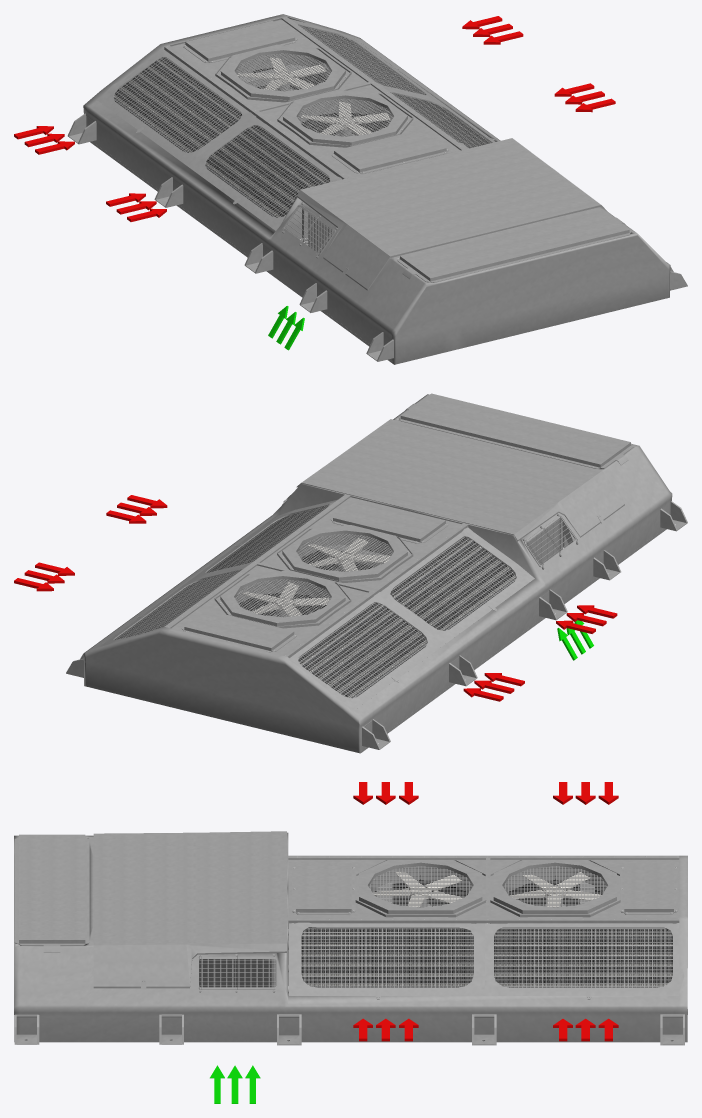
The model's file is HVAC.fbx.
The picture shows the model from 3 angles, top to bottom: view 1: azimuth 30°, elevation 25°; view 2: azimuth 150°, elevation 25°; view 3: azimuth 270°, elevation 25°; orthographic projection. The views are drawn at different scales.
Visible parts, largest first — view 1: HVAC_Finalized:HVAC_Finalized:polySurface1631, HVAC_Finalized:HVAC_Finalized:pCube196, HVAC_Finalized:HVAC_Finalized:pCube207, HVAC_Finalized:HVAC_Finalized:pCube207.001, HVAC_Finalized:HVAC_Finalized:pCube31, HVAC_Finalized:HVAC_Finalized:pCube208, HVAC_Finalized:HVAC_Finalized:pCube210, HVAC_Finalized:HVAC_Finalized:polySurface1743.001, HVAC_Finalized:HVAC_Finalized:polySurface1621, HVAC_Finalized:HVAC_Finalized:pCube37, HVAC_Finalized:HVAC_Finalized:polySurface1642, HVAC_Finalized:HVAC_Finalized:polySurface1743 (+13 smaller); view 2: HVAC_Finalized:HVAC_Finalized:polySurface1631, HVAC_Finalized:HVAC_Finalized:pCube196, HVAC_Finalized:HVAC_Finalized:pCube207, HVAC_Finalized:HVAC_Finalized:pCube207.001, HVAC_Finalized:HVAC_Finalized:pCube31, HVAC_Finalized:HVAC_Finalized:pCube210, HVAC_Finalized:HVAC_Finalized:pCube208, HVAC_Finalized:HVAC_Finalized:polySurface1743.001, HVAC_Finalized:HVAC_Finalized:polySurface1743, HVAC_Finalized:HVAC_Finalized:polySurface1621, HVAC_Finalized:HVAC_Finalized:polySurface1642, HVAC_Finalized:HVAC_Finalized:pCube37 (+12 smaller); view 3: HVAC_Finalized:HVAC_Finalized:polySurface1631, HVAC_Finalized:HVAC_Finalized:pCube196, HVAC_Finalized:HVAC_Finalized:polySurface1743.001, HVAC_Finalized:HVAC_Finalized:polySurface1743, HVAC_Finalized:HVAC_Finalized:pCube31, HVAC_Finalized:HVAC_Finalized:pCube210, HVAC_Finalized:HVAC_Finalized:pCube208, HVAC_Finalized:HVAC_Finalized:polySurface1642, HVAC_Finalized:HVAC_Finalized:pCube37, HVAC_Finalized:HVAC_Finalized:pCube36, HVAC_Finalized:HVAC_Finalized:polySurface1622, HVAC_Finalized:HVAC_Finalized:pCube176 (+13 smaller).
Boxes of the visible parts, x1,y1,x2,y2 form: HVAC_Finalized:HVAC_Finalized:polySurface1631: [83, 14, 670, 364]; HVAC_Finalized:HVAC_Finalized:pCube196: [296, 138, 606, 290]; HVAC_Finalized:HVAC_Finalized:pCube207: [97, 47, 341, 230]; HVAC_Finalized:HVAC_Finalized:pCube207.001: [113, 58, 329, 217]; HVAC_Finalized:HVAC_Finalized:pCube31: [398, 207, 631, 282]; HVAC_Finalized:HVAC_Finalized:pCube208: [215, 44, 351, 102]; HVAC_Finalized:HVAC_Finalized:pCube210: [277, 90, 413, 147]; HVAC_Finalized:HVAC_Finalized:polySurface1743.001: [280, 18, 495, 148]; HVAC_Finalized:HVAC_Finalized:polySurface1621: [67, 113, 393, 361]; HVAC_Finalized:HVAC_Finalized:pCube37: [331, 129, 448, 173]; HVAC_Finalized:HVAC_Finalized:polySurface1642: [164, 17, 466, 179]; HVAC_Finalized:HVAC_Finalized:polySurface1743: [301, 26, 491, 148]; HVAC_Finalized:HVAC_Finalized:polySurface1631: [83, 394, 672, 753]; HVAC_Finalized:HVAC_Finalized:pCube196: [296, 419, 624, 541]; HVAC_Finalized:HVAC_Finalized:pCube207: [289, 527, 534, 710]; HVAC_Finalized:HVAC_Finalized:pCube207.001: [298, 537, 515, 698]; HVAC_Finalized:HVAC_Finalized:pCube31: [398, 393, 633, 468]; HVAC_Finalized:HVAC_Finalized:pCube210: [277, 525, 413, 582]; HVAC_Finalized:HVAC_Finalized:pCube208: [214, 570, 351, 628]; HVAC_Finalized:HVAC_Finalized:polySurface1743.001: [99, 499, 337, 646]; HVAC_Finalized:HVAC_Finalized:polySurface1743: [115, 506, 327, 639]; HVAC_Finalized:HVAC_Finalized:polySurface1621: [362, 501, 687, 749]; HVAC_Finalized:HVAC_Finalized:polySurface1642: [165, 494, 468, 657]; HVAC_Finalized:HVAC_Finalized:pCube37: [330, 499, 448, 543]; HVAC_Finalized:HVAC_Finalized:polySurface1631: [14, 832, 687, 1042]; HVAC_Finalized:HVAC_Finalized:pCube196: [93, 831, 286, 989]; HVAC_Finalized:HVAC_Finalized:polySurface1743.001: [289, 922, 684, 999]; HVAC_Finalized:HVAC_Finalized:polySurface1743: [301, 928, 672, 987]; HVAC_Finalized:HVAC_Finalized:pCube31: [14, 834, 89, 952]; HVAC_Finalized:HVAC_Finalized:pCube210: [355, 859, 486, 917]; HVAC_Finalized:HVAC_Finalized:pCube208: [490, 859, 620, 917]; HVAC_Finalized:HVAC_Finalized:polySurface1642: [288, 855, 679, 995]; HVAC_Finalized:HVAC_Finalized:pCube37: [292, 863, 355, 914]; HVAC_Finalized:HVAC_Finalized:pCube36: [620, 863, 677, 914]; HVAC_Finalized:HVAC_Finalized:polySurface1622: [14, 1014, 684, 1045]; HVAC_Finalized:HVAC_Finalized:pCube176: [199, 959, 276, 987].
Size of the model in its own units: 383 by 96.53 by 425.
